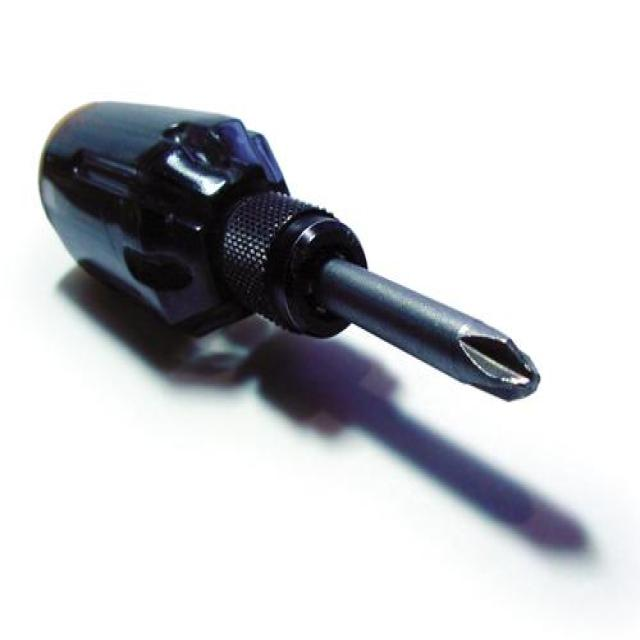screw driver: (22, 63, 544, 453)
